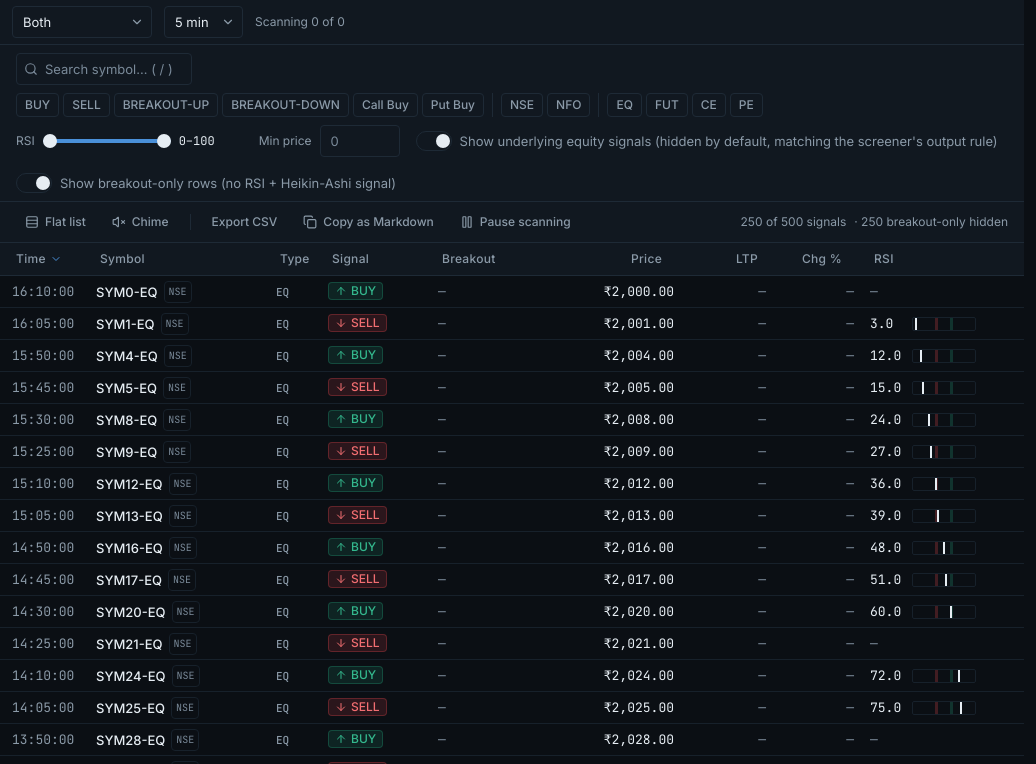
Scenario: SignalsTable virtualization › the breakout-only toggle brings those rows back
The width and height of the screenshot is (1036, 764).
Click the 2nd switch named "Show breakout-only rows": click(34, 183) x1=16 y1=173 x2=52 y2=193
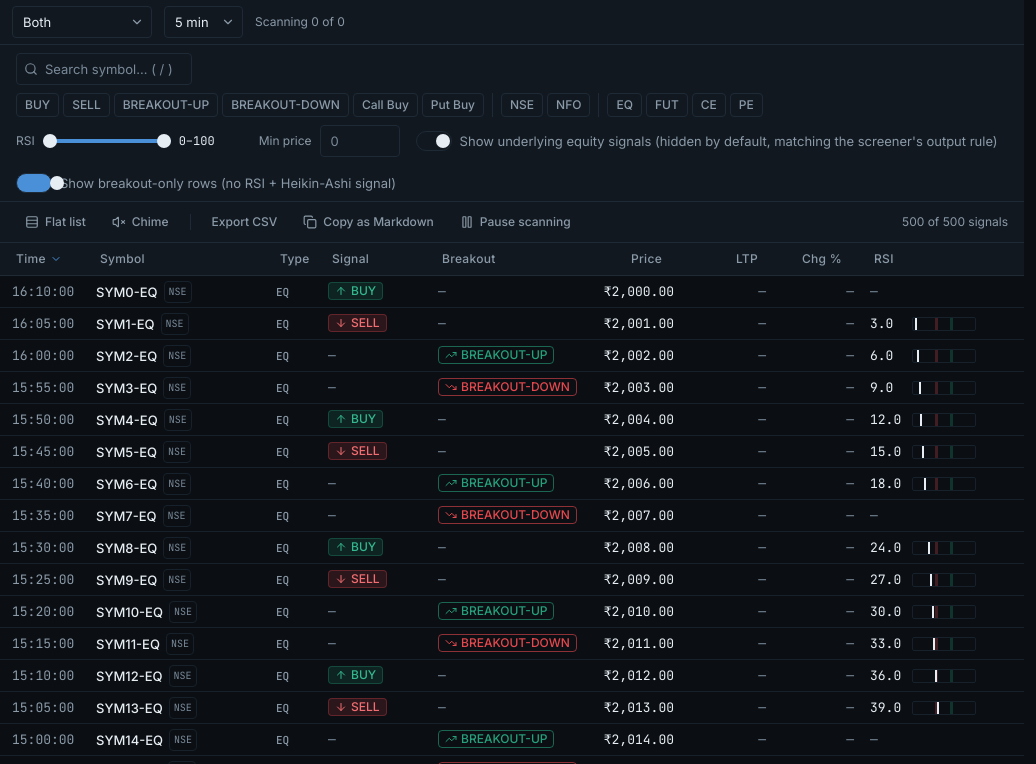
Now the text "500 of 500 signals" is shown, box x1=902 y1=214 x2=1008 y2=230
Now the text "breakout-only hidden" is gone
